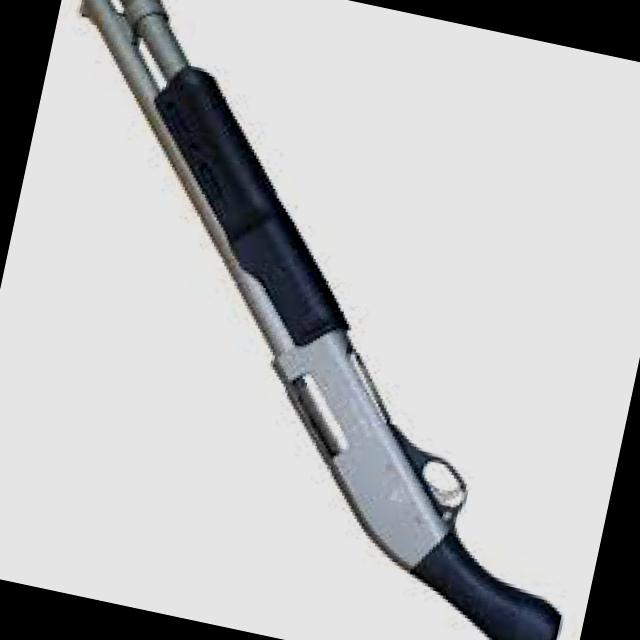long weapon: (56, 0, 572, 640)
